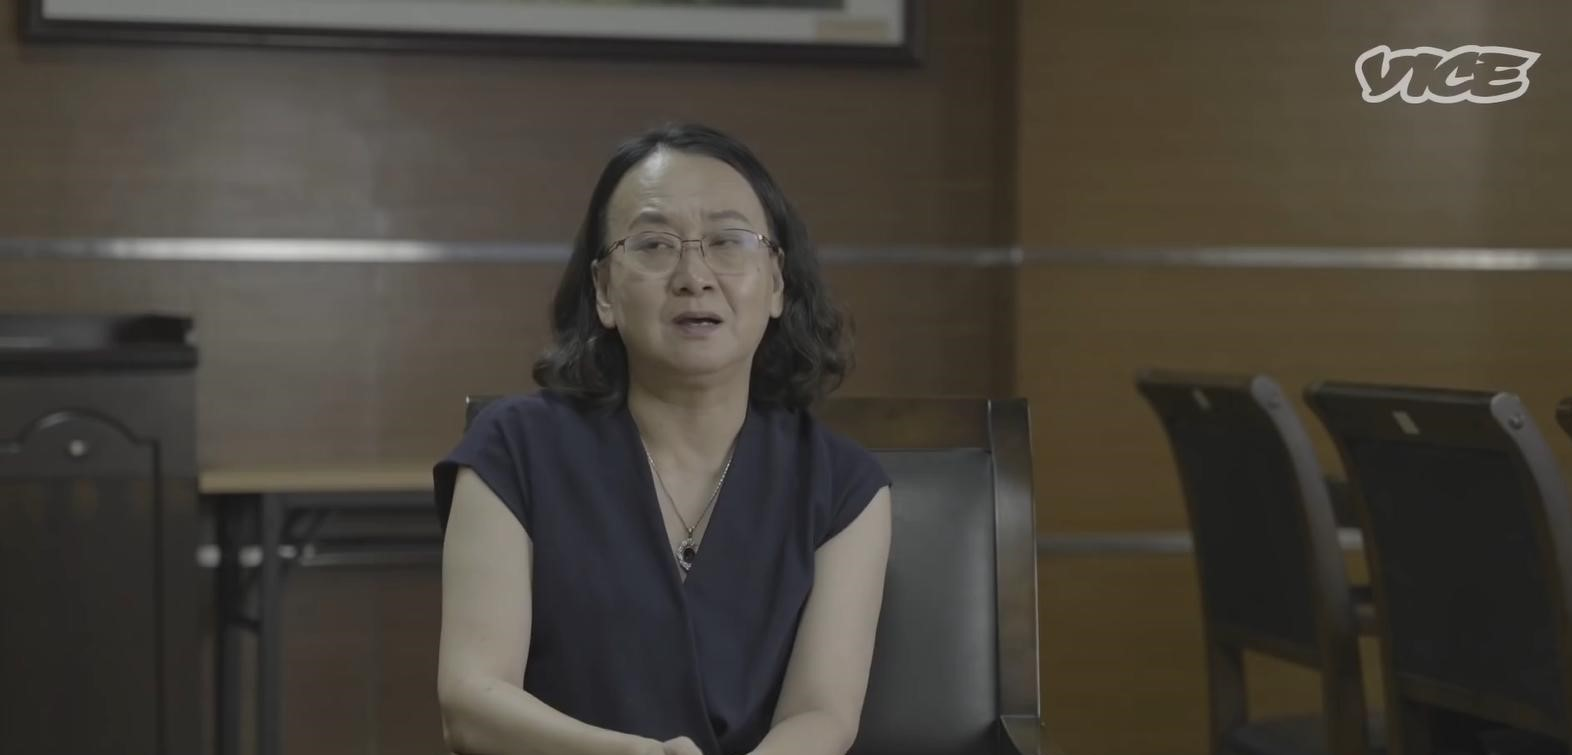without_mask: (626, 204, 749, 353)
